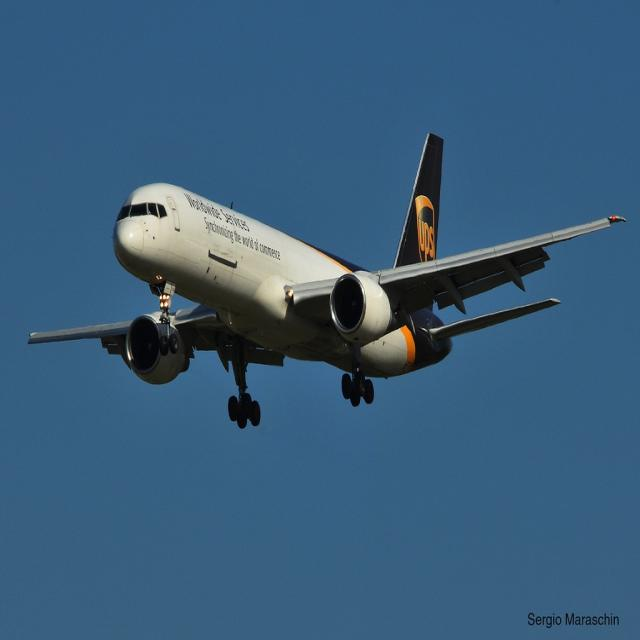ups: (416, 196, 437, 263)
